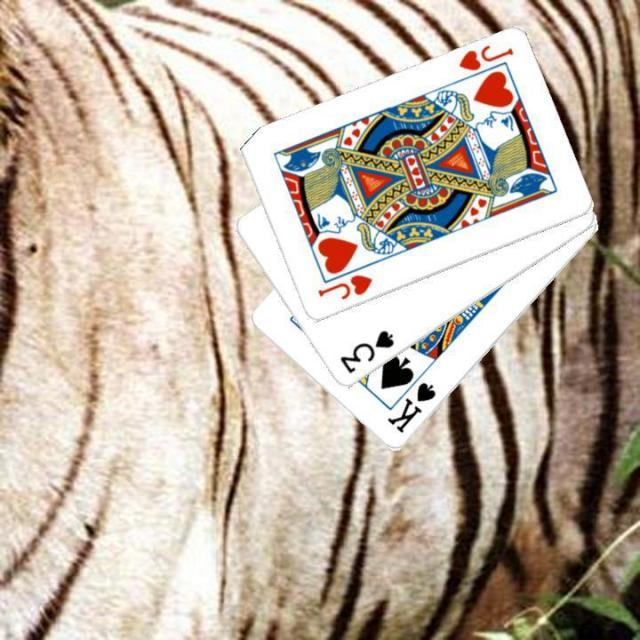3S: (336, 326, 396, 376)
JH: (454, 42, 516, 74), (314, 271, 374, 302)
KS: (383, 379, 438, 436)
